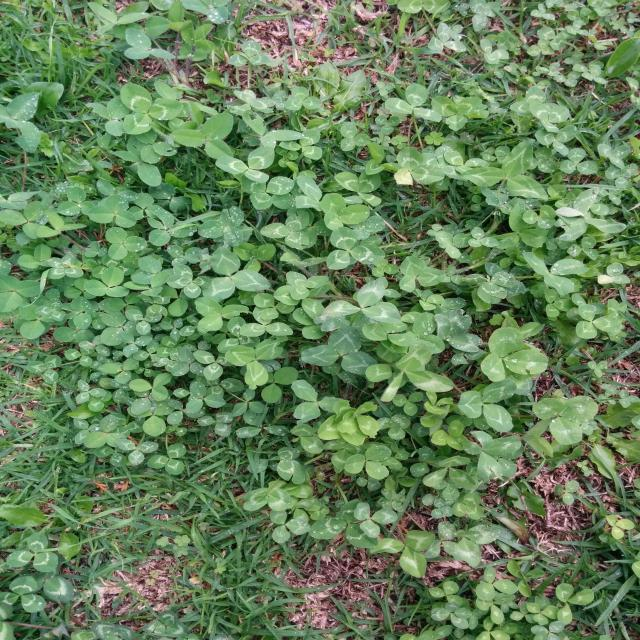Four Leaf Clover: (166, 264, 212, 298), (46, 254, 84, 279)
